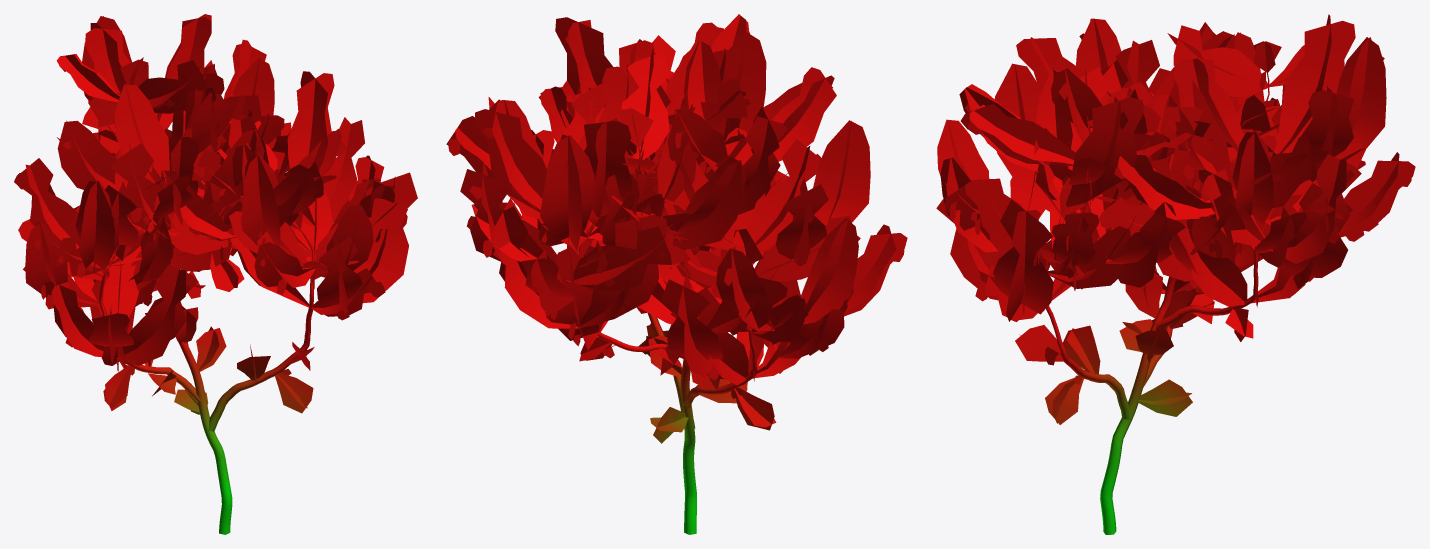
The model's file is European Spindle_LOD3_Var12.fbx.
3 renders of one model, left to right at view 1: azimuth 30°, elevation 25°; view 2: azimuth 150°, elevation 25°; view 3: azimuth 270°, elevation 25°, orthographic. The views are drawn at different scales.
Parts seen in each view (by area): view 1: _b5n0_Var12_LOD3; view 2: _b5n0_Var12_LOD3; view 3: _b5n0_Var12_LOD3.
Part boxes in pixels (x1=…): _b5n0_Var12_LOD3: x1=14, y1=14, x2=417, y2=534; _b5n0_Var12_LOD3: x1=446, y1=14, x2=907, y2=534; _b5n0_Var12_LOD3: x1=936, y1=14, x2=1415, y2=534.
Size of the model in its own units: 177 by 225 by 193.
